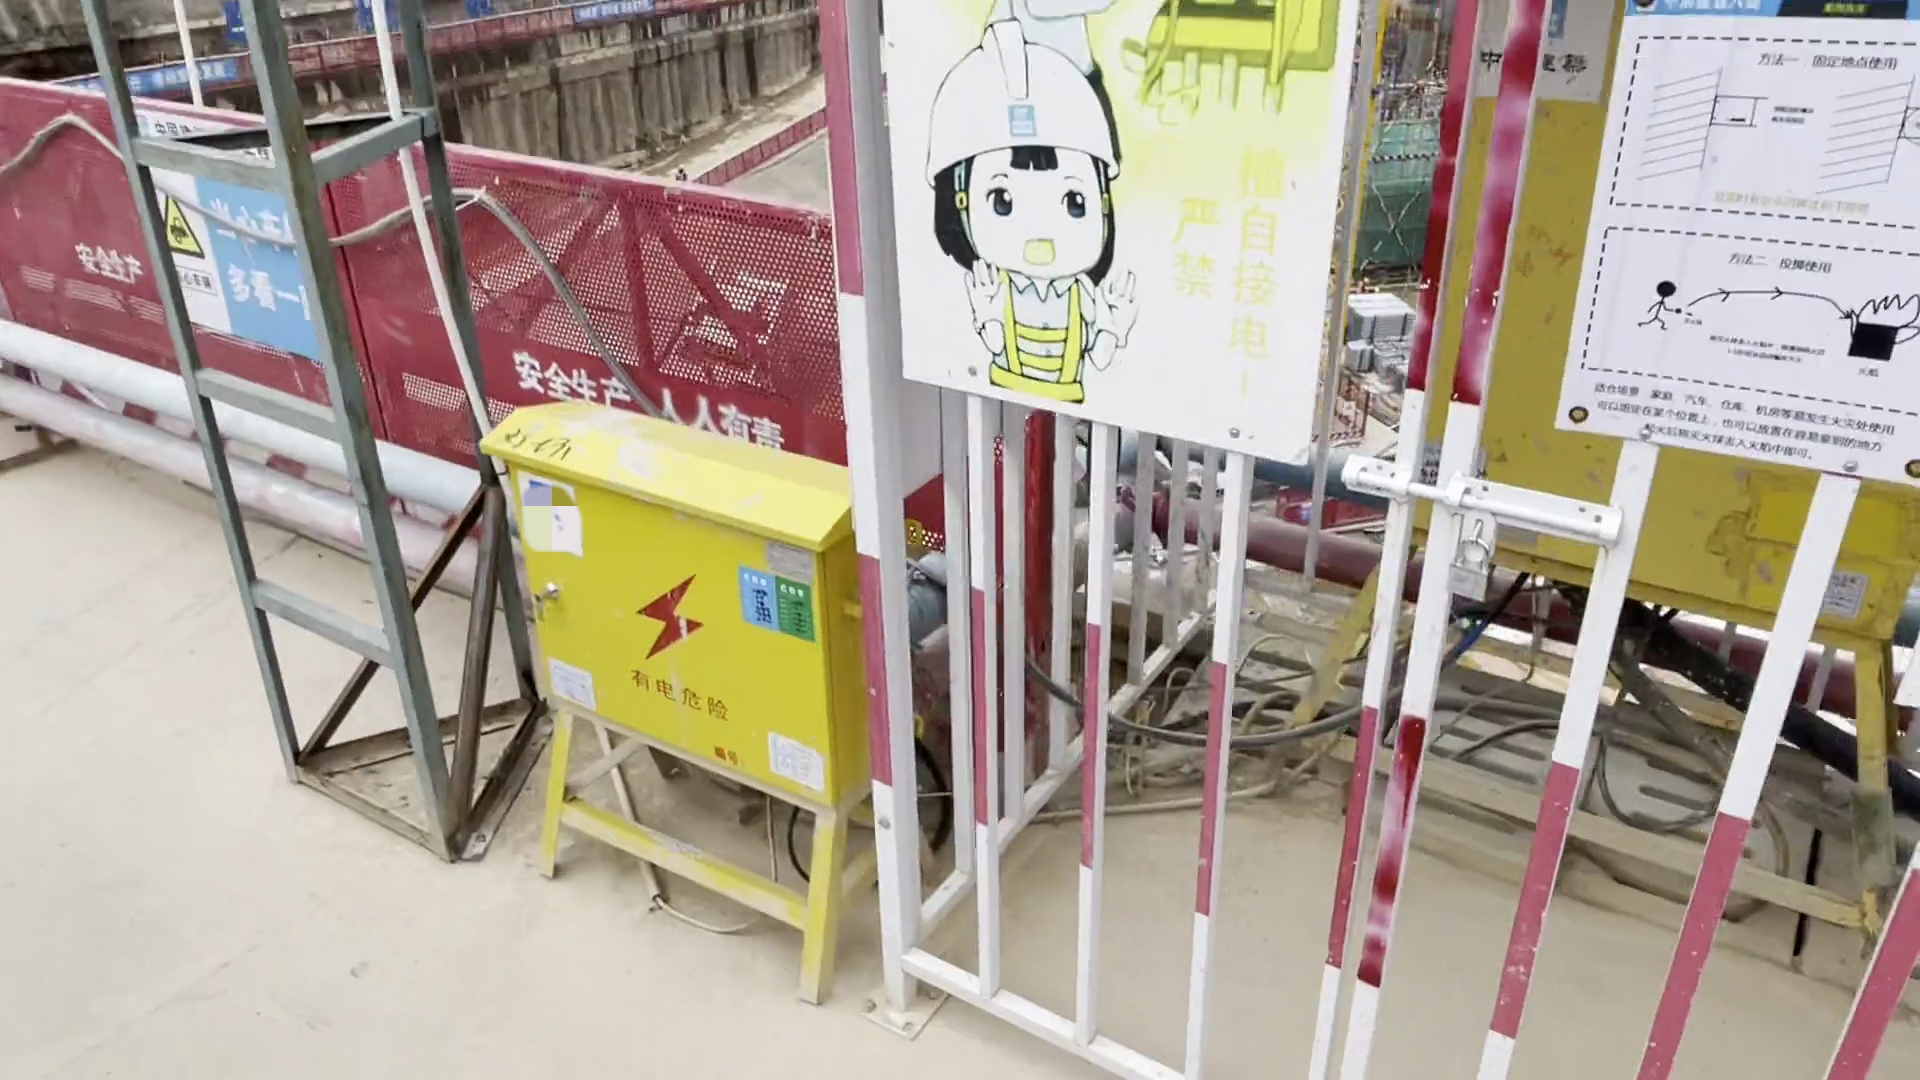ebox: (481, 390, 881, 1019)
fence: (3, 195, 848, 440)
slogan: (860, 1, 1317, 476), (109, 119, 330, 372)
